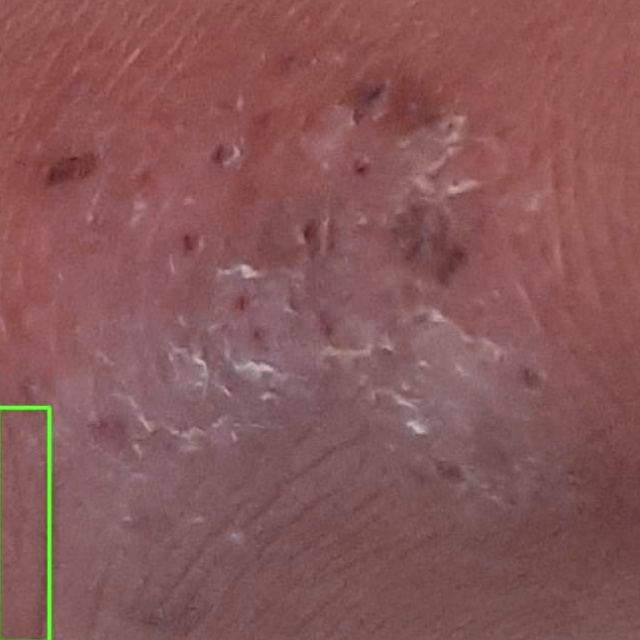Contact Dermatitis: (0, 407, 49, 639)
